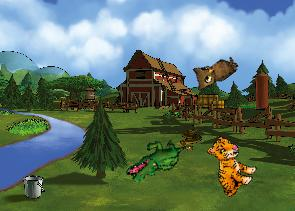crocodile: (123, 126, 188, 195)
owl: (186, 45, 240, 95)
tiger: (193, 132, 263, 201)
